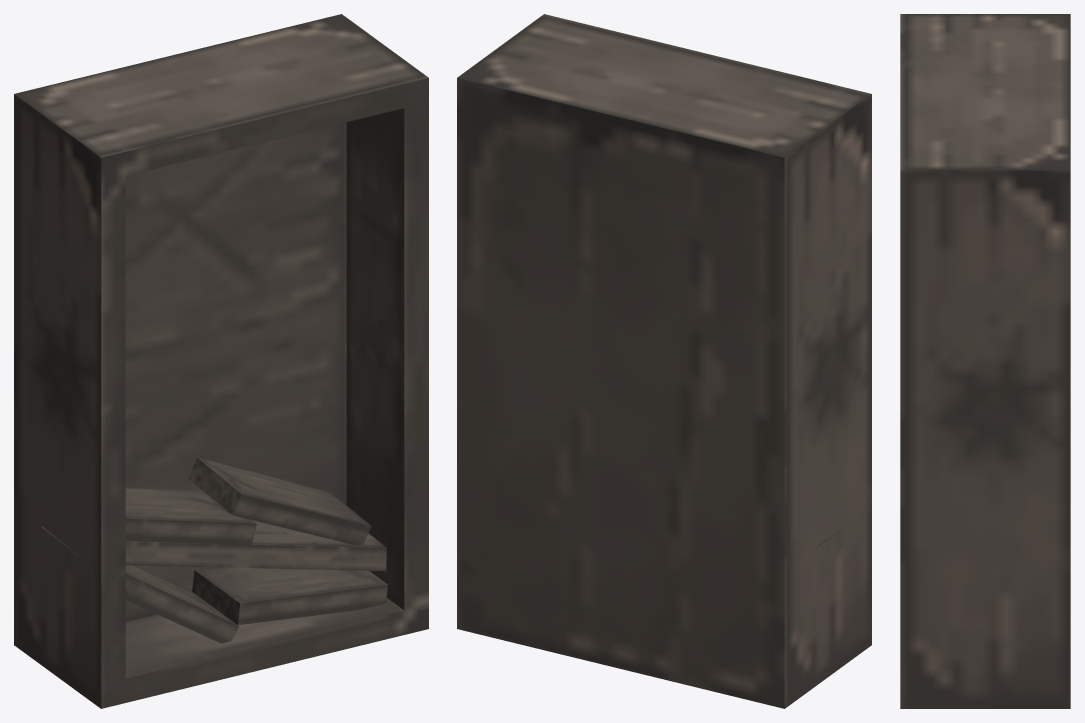
File: brokenBooKSHLF.fbx
The picture shows the model from 3 angles, left to right: view 1: azimuth 30°, elevation 25°; view 2: azimuth 150°, elevation 25°; view 3: azimuth 270°, elevation 25°; orthographic projection. The views are drawn at different scales.
Parts seen in each view (by area): view 1: BrokenBookSHLF; view 2: BrokenBookSHLF; view 3: BrokenBookSHLF.
Boxes of the visible parts, x1,y1,x2,y2 form: BrokenBookSHLF: (14,14,428,708); BrokenBookSHLF: (457,14,871,708); BrokenBookSHLF: (900,14,1070,708).
Bounding box in the file's own units: 1107 × 1770 × 507.
